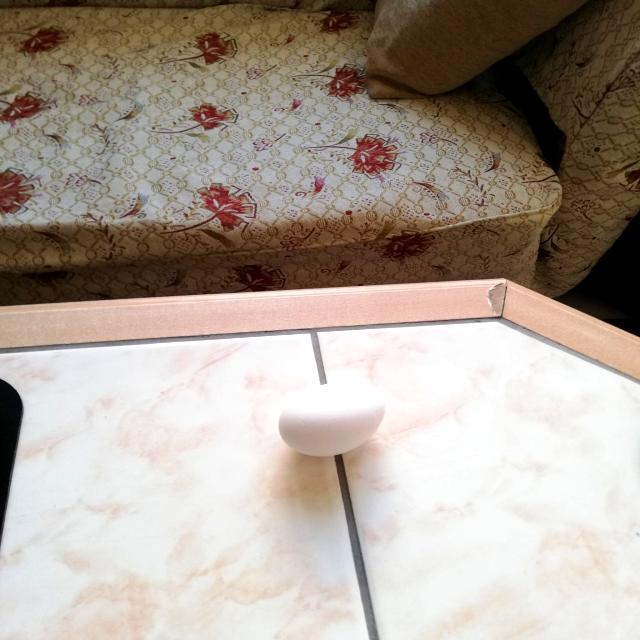egg: (272, 375, 390, 460)
